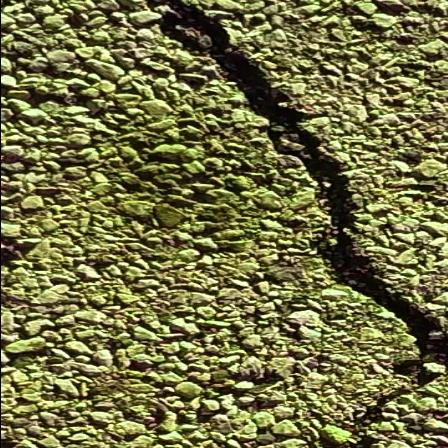crack: (81, 0, 448, 448)
